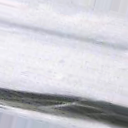crackTip: (1, 84, 128, 127)
